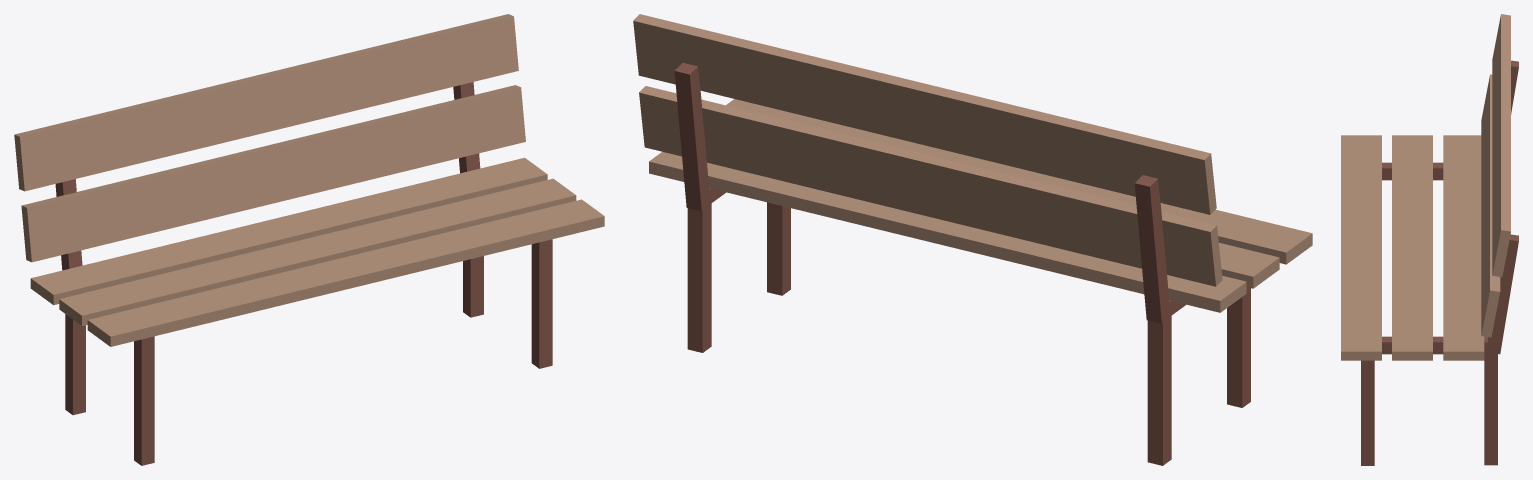
Rendered from Bench.fbx.
3 views of the same model, side by side, from view 1: azimuth 30°, elevation 25°; view 2: azimuth 150°, elevation 25°; view 3: azimuth 270°, elevation 25° (orthographic). The views are drawn at different scales.
Visible parts, largest first — view 1: Bench; view 2: Bench; view 3: Bench.
Boxes of the visible parts, left/top/right/bottom form: Bench: left=14, top=14, right=604, bottom=465; Bench: left=633, top=14, right=1312, bottom=465; Bench: left=1341, top=14, right=1518, bottom=465.
Size of the model in its own units: 150 by 81.95 by 52.2.
